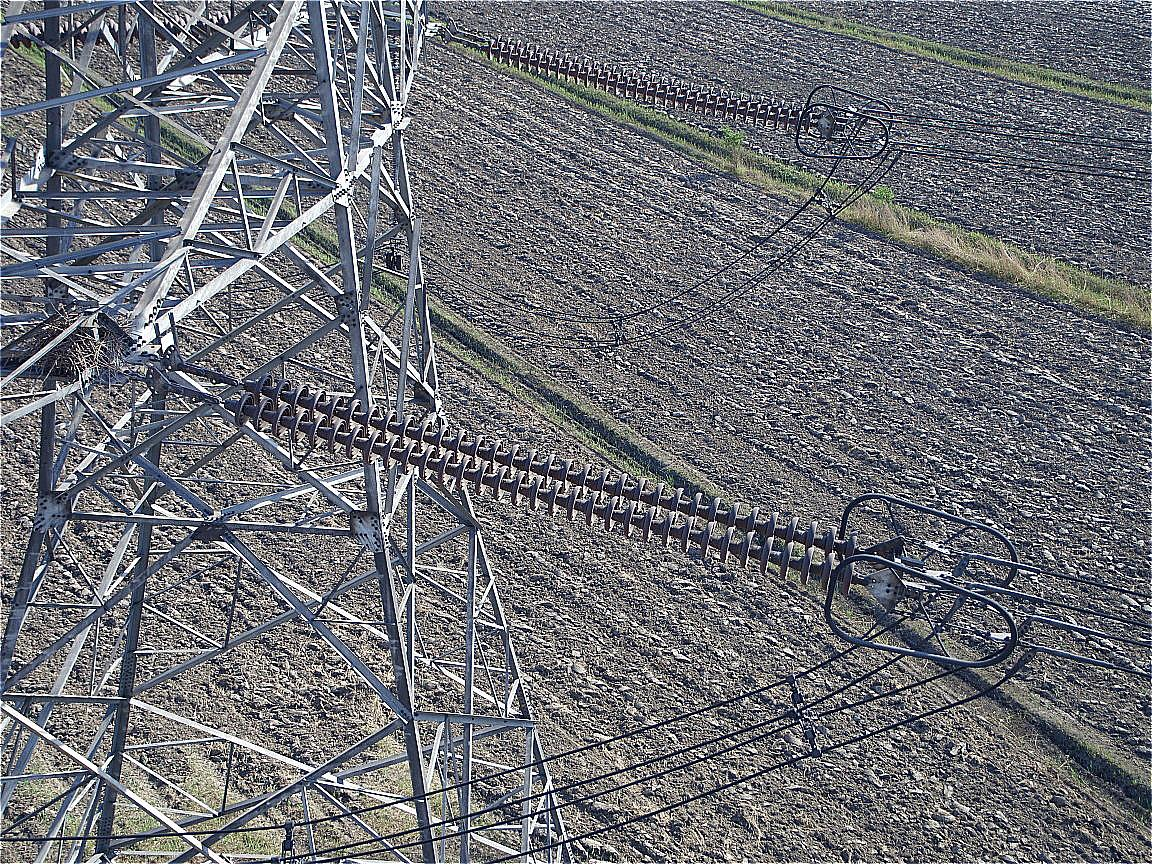insultor1: (236, 371, 861, 595), (487, 31, 814, 134)
